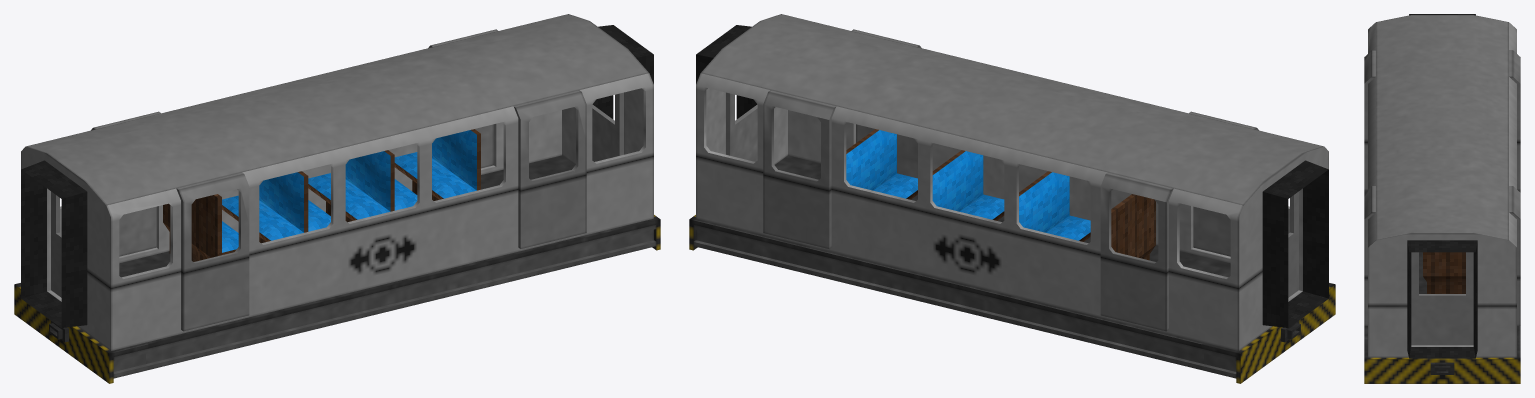
The model's file is kitsune_elysia_mk2_javelin_trailer_passenger.obj.
The picture shows the model from 3 angles, left to right: view 1: azimuth 30°, elevation 25°; view 2: azimuth 150°, elevation 25°; view 3: azimuth 270°, elevation 25°; orthographic projection. The views are drawn at different scales.
Parts seen in each view (by area): view 1: FRAME_0_body, FRAME_corridor.001, FRAME_0_body.001, DOOR_1_EXTERNAL_TOGGLE_CG_leftdoor_TL_1_X, DOOR_2_EXTERNAL_TOGGLE_CG_leftdoor_TL_-1_X, FRAME_1, FRAME_3, FRAME_2, FRAME_bench.001, FRAME_bench.002, FRAME_bench.003, FRAME_end1 (+7 smaller); view 2: FRAME_0_body, FRAME_0_body.001, FRAME_corridor.001, DOOR_3_EXTERNAL_TOGGLE_CG_rightdoor_TL_1_X, DOOR_4_EXTERNAL_TOGGLE_CG_rightdoor_TL_-1_X, FRAME_1, FRAME_3, FRAME_2, FRAME_end1, FRAME_bench.001, FRAME_bench.002, FRAME_bench.003 (+7 smaller); view 3: FRAME_0_body, FRAME_end2, DOOR_5_CONNECTING_TL_0.625_Z, FRAME_corridor.002, FRAME_bench.003, DOOR_3_EXTERNAL_TOGGLE_CG_rightdoor_TL_1_X, DOOR_1_EXTERNAL_TOGGLE_CG_leftdoor_TL_1_X, DOOR_4_EXTERNAL_TOGGLE_CG_rightdoor_TL_-1_X, DOOR_2_EXTERNAL_TOGGLE_CG_leftdoor_TL_-1_X, COUPLER_ENGAGED_REAR_2_TOGGLE_LABEL_Uncouple, FRAME_3.
Boxes of the visible parts, x1,y1,x2,y2 form: FRAME_0_body: (21, 14, 653, 350); FRAME_corridor.001: (21, 160, 87, 327); FRAME_0_body.001: (47, 88, 645, 301); DOOR_1_EXTERNAL_TOGGLE_CG_leftdoor_TL_1_X: (176, 172, 249, 331); DOOR_2_EXTERNAL_TOGGLE_CG_leftdoor_TL_-1_X: (514, 90, 586, 248); FRAME_1: (119, 251, 306, 369); FRAME_3: (460, 163, 621, 293); FRAME_2: (304, 266, 462, 331); FRAME_bench.001: (308, 150, 417, 222); FRAME_bench.002: (222, 171, 330, 243); FRAME_bench.003: (394, 129, 480, 200); FRAME_end1: (14, 283, 148, 383); FRAME_0_body: (696, 14, 1328, 350); FRAME_0_body.001: (704, 88, 1302, 301); FRAME_corridor.001: (1262, 160, 1328, 327); DOOR_3_EXTERNAL_TOGGLE_CG_rightdoor_TL_1_X: (1100, 172, 1173, 331); DOOR_4_EXTERNAL_TOGGLE_CG_rightdoor_TL_-1_X: (763, 90, 835, 248); FRAME_1: (1043, 245, 1230, 369); FRAME_3: (728, 163, 917, 293); FRAME_2: (887, 216, 1090, 331); FRAME_end1: (1201, 283, 1335, 383); FRAME_bench.001: (932, 150, 1004, 220); FRAME_bench.002: (1019, 171, 1090, 241); FRAME_bench.003: (846, 129, 917, 199); FRAME_0_body: (1368, 15, 1516, 357); FRAME_end2: (1364, 343, 1520, 383); DOOR_5_CONNECTING_TL_0.625_Z: (1411, 252, 1473, 345); FRAME_corridor.002: (1407, 240, 1477, 358); FRAME_bench.003: (1423, 252, 1465, 293); DOOR_3_EXTERNAL_TOGGLE_CG_rightdoor_TL_1_X: (1509, 50, 1520, 190); DOOR_1_EXTERNAL_TOGGLE_CG_leftdoor_TL_1_X: (1364, 50, 1375, 190); DOOR_4_EXTERNAL_TOGGLE_CG_rightdoor_TL_-1_X: (1509, 186, 1520, 325); DOOR_2_EXTERNAL_TOGGLE_CG_leftdoor_TL_-1_X: (1364, 186, 1375, 325); COUPLER_ENGAGED_REAR_2_TOGGLE_LABEL_Uncouple: (1430, 362, 1454, 374); FRAME_3: (1364, 279, 1520, 343).
Bounding box in the file's own units: 9 × 2.75 × 2.5.
7 materials, 7 textured.
